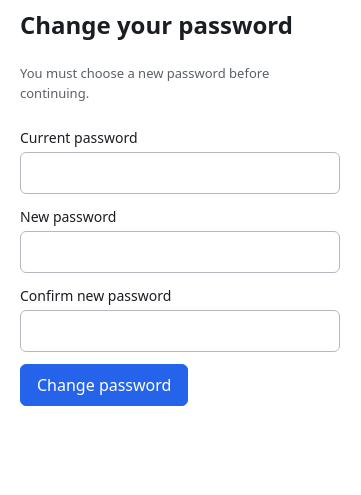
Test: ChangePasswordPage — validation and submission › surfaces a server VALIDATION_ERROR message verbatim
Check: the password field labelled "New password" is shown, box [20,231,340,273]
Type "temp-password-1234" into the password field labelled "Current password".
click(180, 173); type("temp-password-1234")  # box [20,152,340,194]
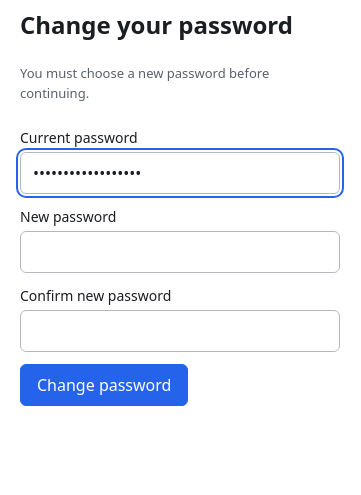
Type "a-common-password-1" into the password field labelled "New password".
click(180, 252); type("a-common-password-1")  # box [20,231,340,273]
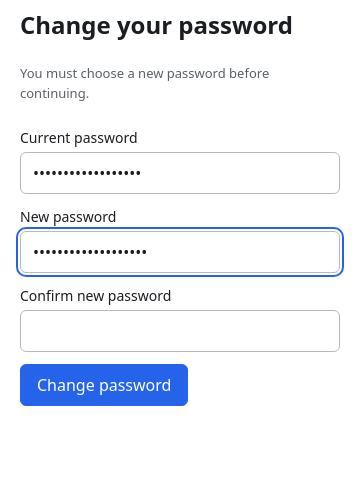
Type "a-common-password-1" into the password field labelled "Confirm new password".
click(180, 331); type("a-common-password-1")  # box [20,310,340,352]
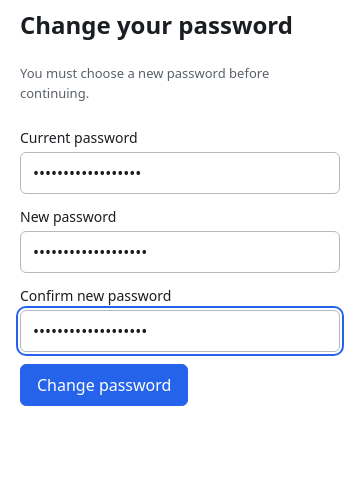
Click the button "Change password".
click(104, 385)  # box [20,364,188,406]
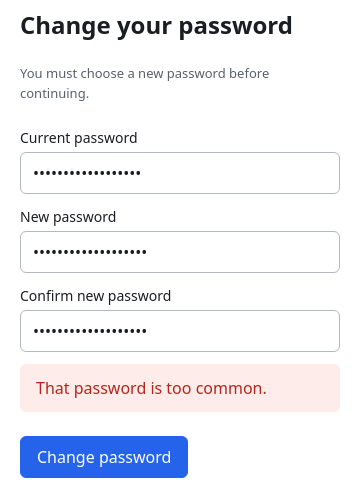
Check: the message reads "That password is too common.", box [36,377,267,399]
